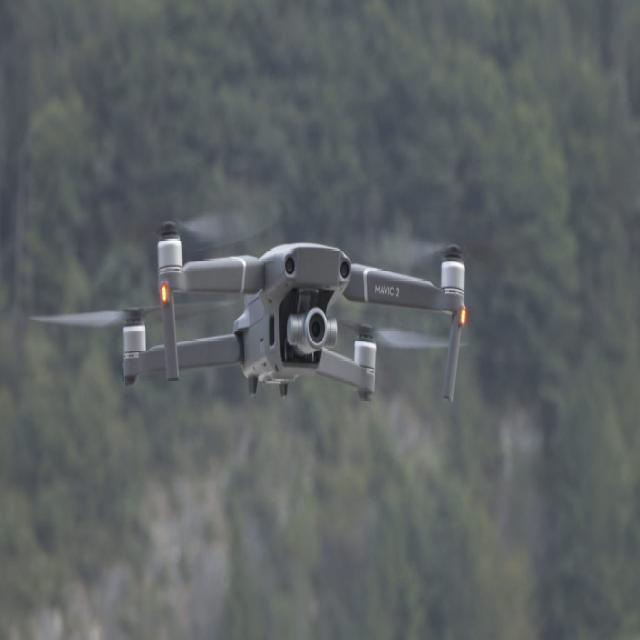drone: (72, 196, 481, 444)
